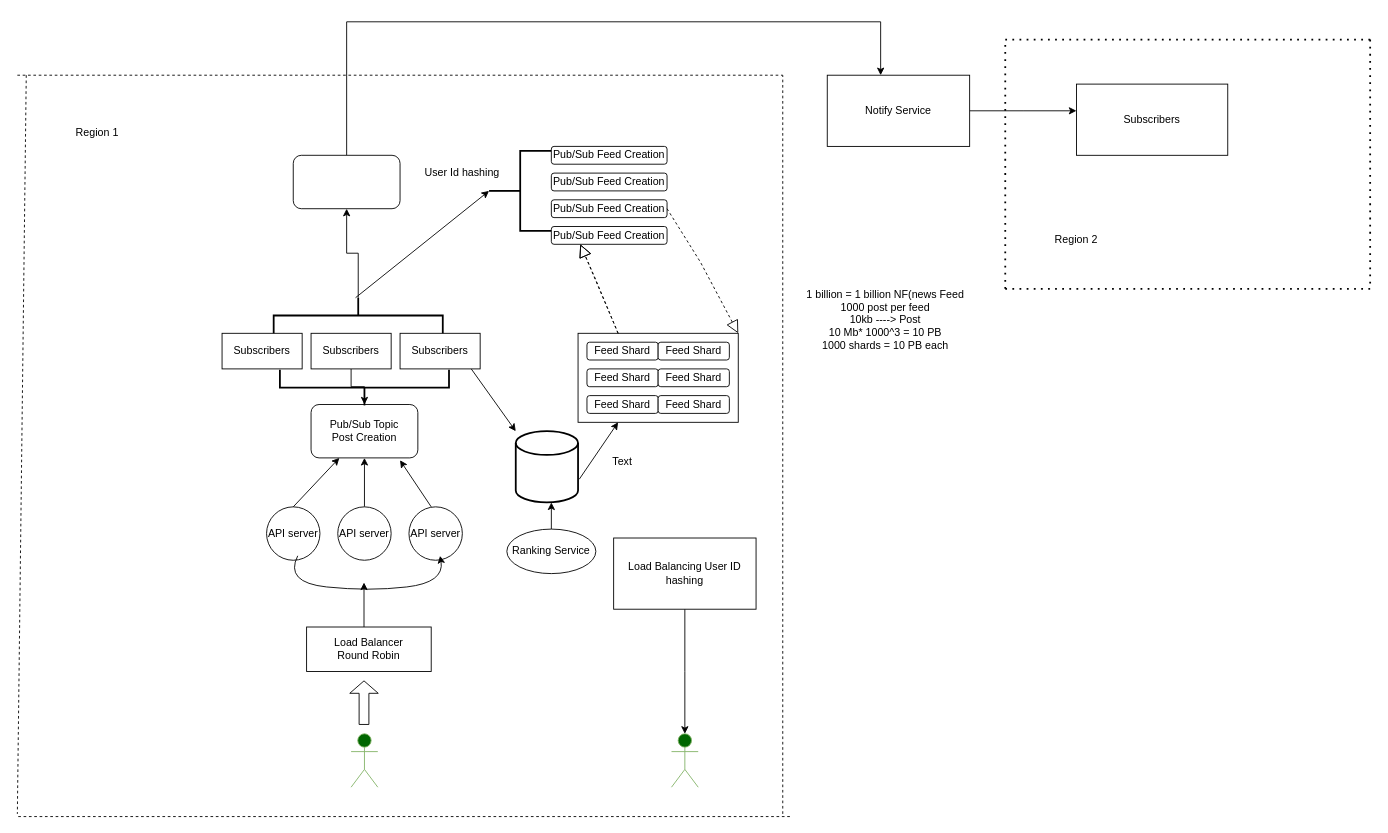
This 1388x833 diagram has some shape labels left out. The shapes that lost their labels are listed below. From the top down, each one's box as (x1, y1, x2, y2) in pixels, then its label:
(292, 154, 400, 209): Pub/Sub Topic Async Updation
(514, 430, 578, 503): RDB
(350, 733, 378, 787): CreatePost API
(671, 733, 698, 787): GetFeed API
